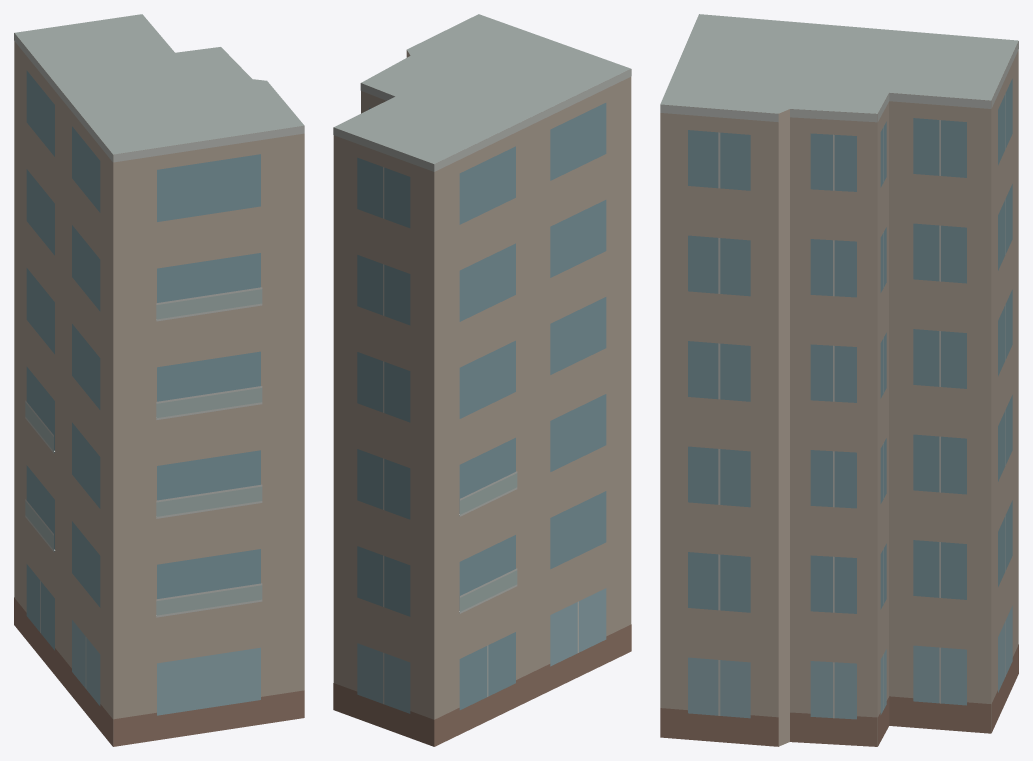
File: survey-upis-32785879.glb
3 renders of one model, left to right at view 1: azimuth 30°, elevation 25°; view 2: azimuth 150°, elevation 25°; view 3: azimuth 270°, elevation 25°, orthographic. The views are drawn at different scales.
Parts seen in each view (by area): view 1: survey-upis-32785879.tmp; view 2: survey-upis-32785879.tmp; view 3: survey-upis-32785879.tmp.
Part boxes in pixels (bbox=[...]): survey-upis-32785879.tmp: bbox=[14, 14, 304, 746]; survey-upis-32785879.tmp: bbox=[333, 14, 631, 746]; survey-upis-32785879.tmp: bbox=[660, 14, 1018, 746].
Bounding box in the file's own units: 6.2 × 18.3 × 9.41.
